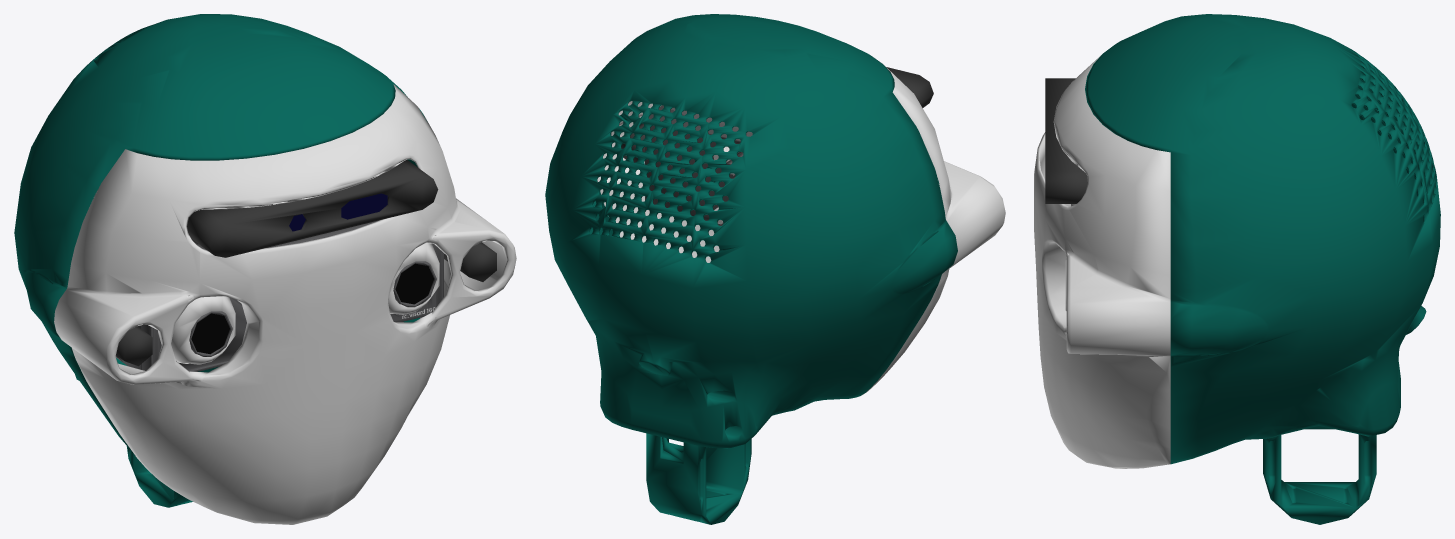
File: 6a13000_halsoben_v13.obj
The picture shows the model from 3 angles, left to right: view 1: azimuth 30°, elevation 25°; view 2: azimuth 150°, elevation 25°; view 3: azimuth 270°, elevation 25°; orthographic projection. The views are drawn at different scales.
Bounding box in the file's own units: 0.3219 × 0.365 × 0.2861.
